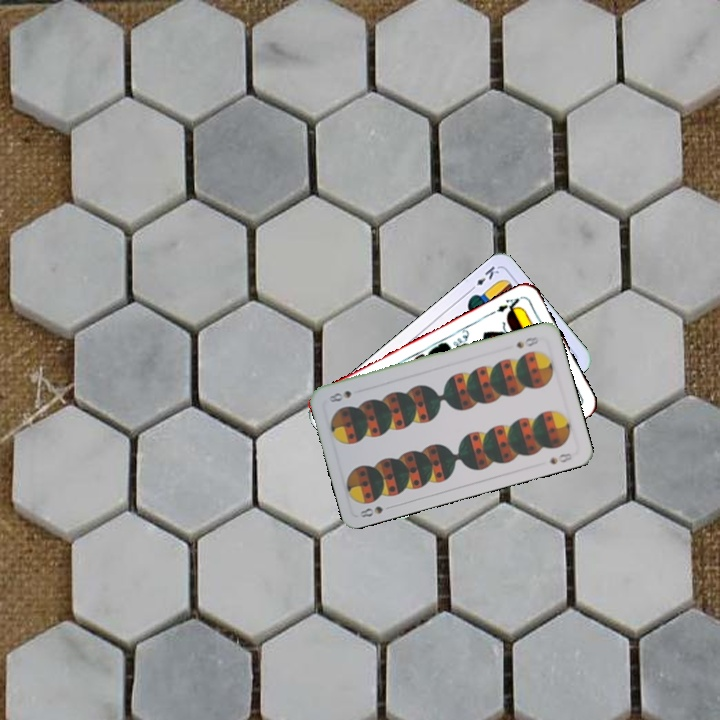EA: (492, 294, 523, 317)
EK: (465, 262, 502, 294)
S8: (356, 501, 396, 520), (512, 333, 541, 351)
